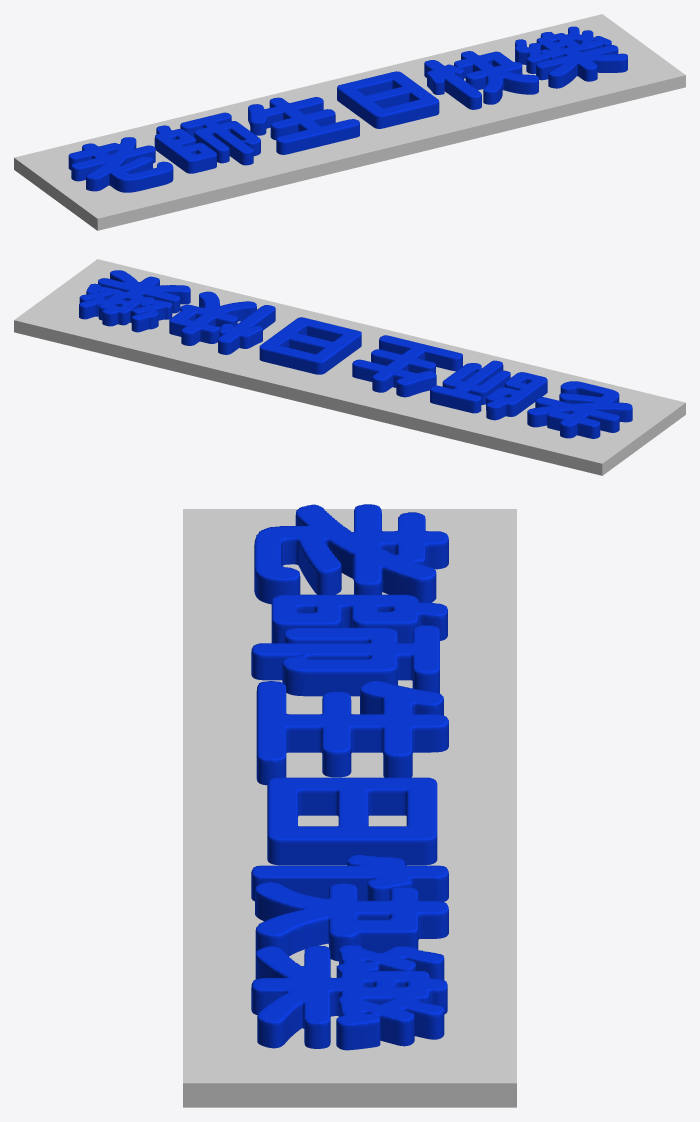
The model's file is HBDTeacher.fbx.
The picture shows the model from 3 angles, top to bottom: view 1: azimuth 30°, elevation 25°; view 2: azimuth 150°, elevation 25°; view 3: azimuth 270°, elevation 25°; orthographic projection. The views are drawn at different scales.
Visible parts, largest first — view 1: Cube, Text; view 2: Cube, Text; view 3: Cube, Text.
Boxes of the visible parts, left/top/right/bottom form: Cube: left=14, top=14, right=685, bottom=230; Text: left=68, top=26, right=627, bottom=192; Cube: left=14, top=259, right=685, bottom=475; Text: left=79, top=270, right=632, bottom=438; Cube: left=183, top=509, right=516, bottom=1107; Text: left=251, top=504, right=448, bottom=1050.
Bounding box in the file's own units: 251 × 10.19 × 61.66.
